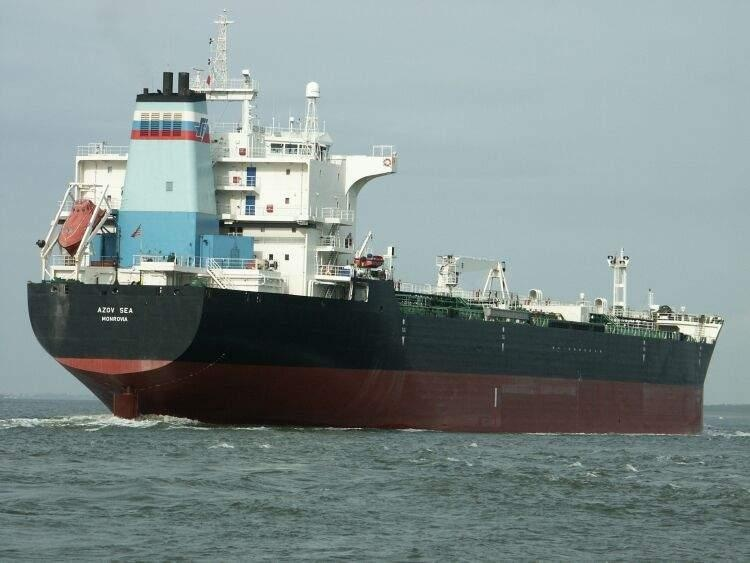Cargoship: (22, 7, 720, 420)
